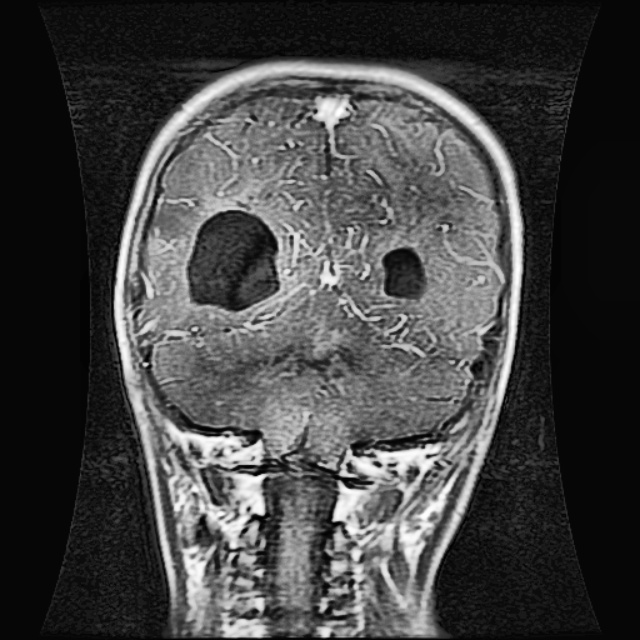Meningioma: (177, 202, 284, 310)
